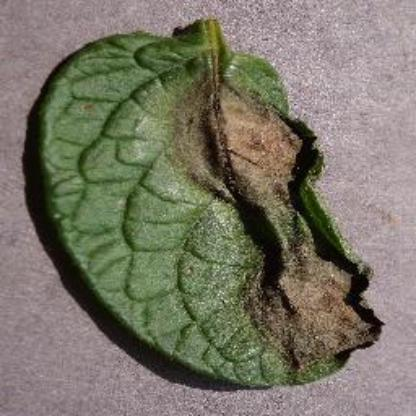Late-Blight: (26, 10, 390, 394)
